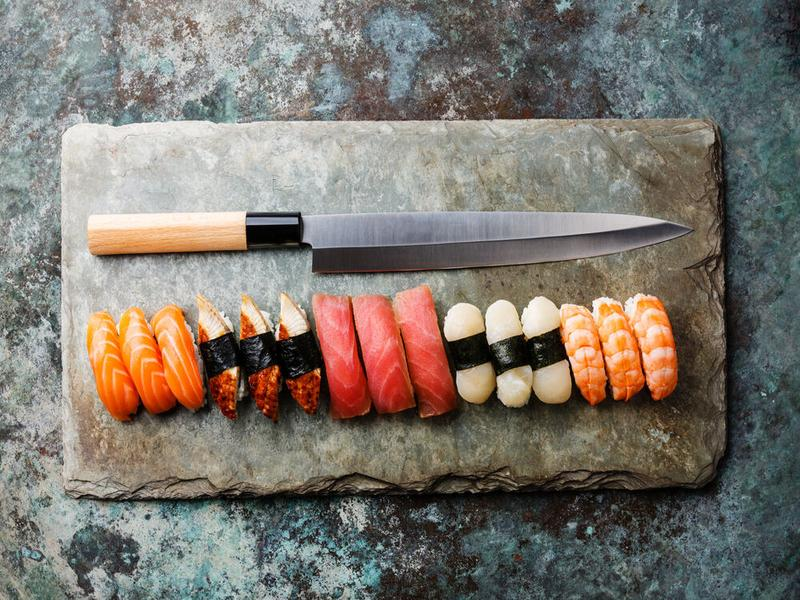KNIFE: (79, 198, 704, 282)
